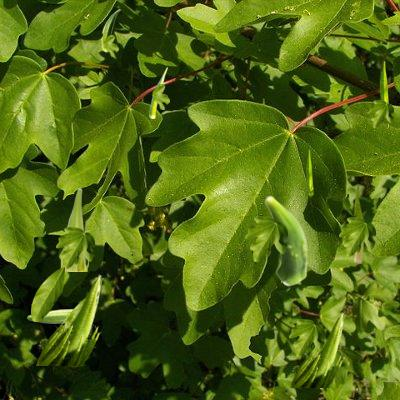okra: (35, 274, 102, 364), (289, 312, 344, 386), (264, 195, 307, 285), (61, 188, 87, 270), (149, 67, 166, 117), (101, 9, 119, 51), (27, 308, 72, 322), (354, 184, 362, 262), (380, 61, 388, 102), (306, 150, 312, 196)
